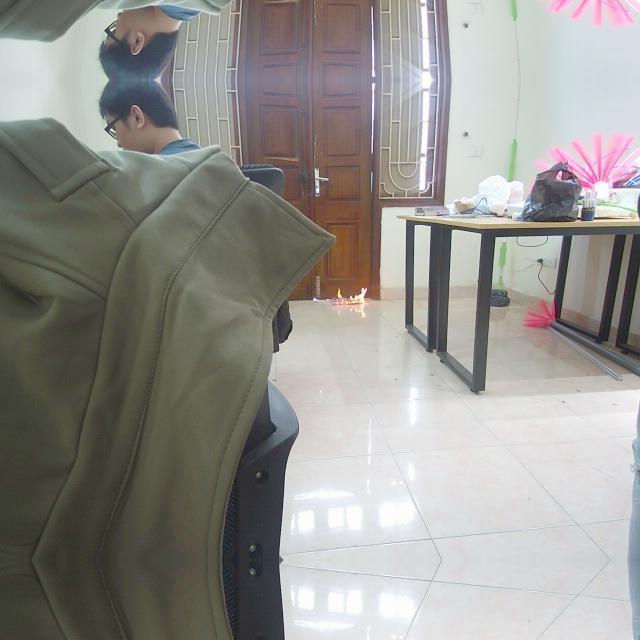smoke: (334, 285, 366, 303)
